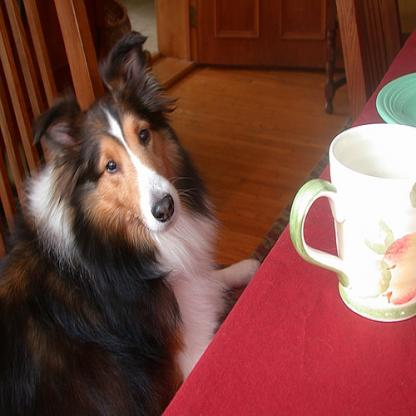Shetland_sheepdog: (0, 29, 260, 414)
